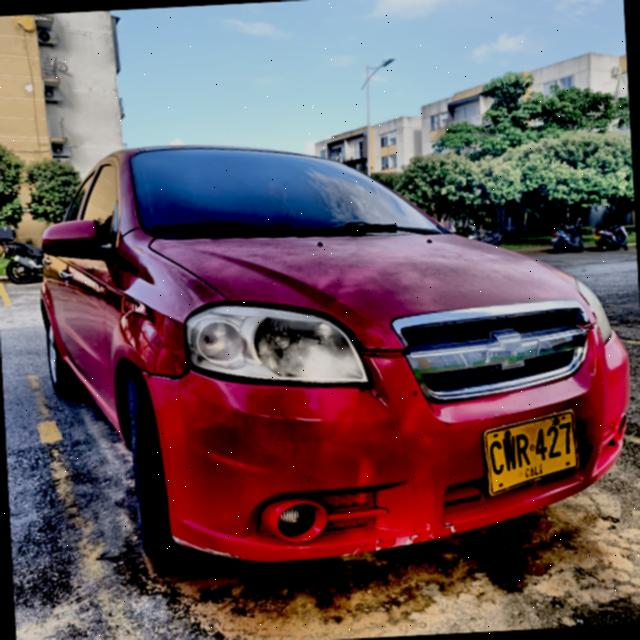2: (545, 425, 562, 460)
4: (534, 428, 549, 463)
7: (559, 421, 574, 456)
C: (488, 439, 506, 477)
R: (515, 432, 532, 468)
W: (502, 435, 517, 473)
